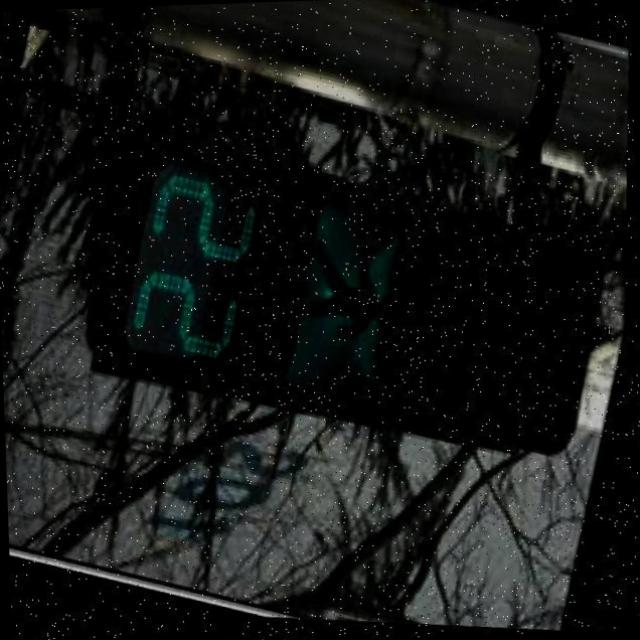green_light: (113, 158, 432, 436)
